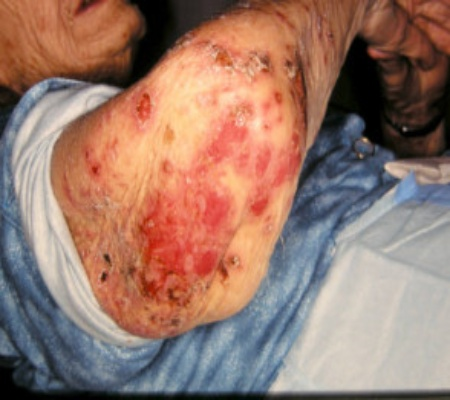SJS-TEN: (44, 0, 374, 350), (0, 0, 65, 112)
